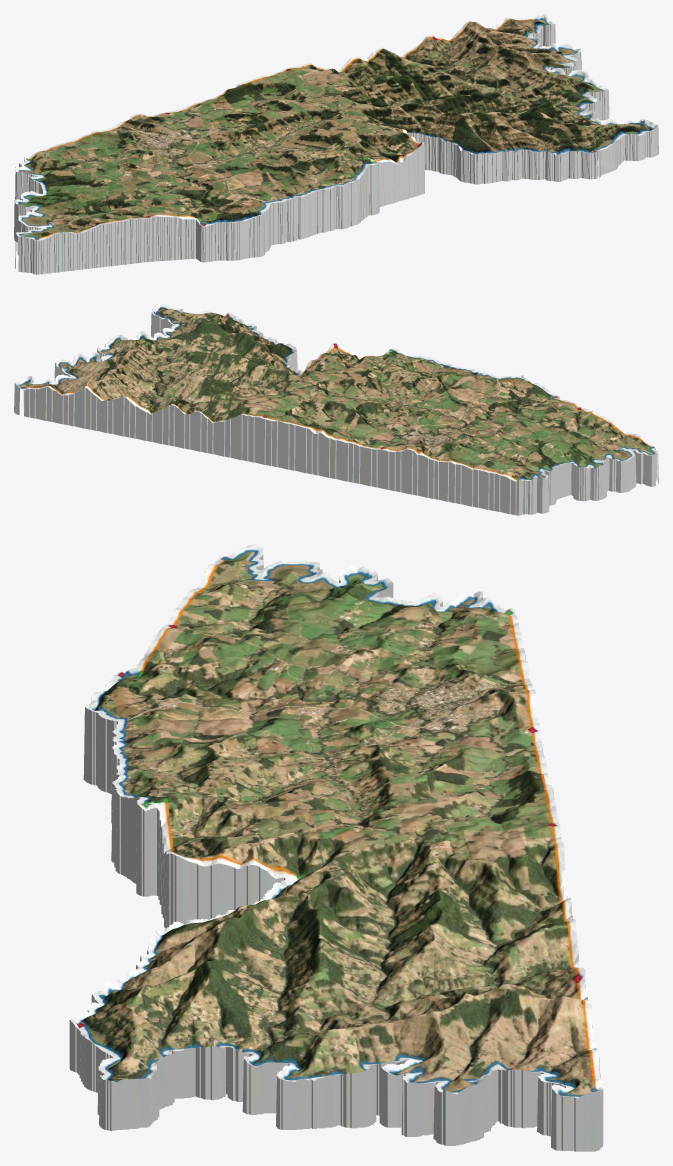
The picture shows the model from 3 angles, top to bottom: view 1: azimuth 30°, elevation 25°; view 2: azimuth 150°, elevation 25°; view 3: azimuth 270°, elevation 25°; orthographic projection. The views are drawn at different scales.
Size of the model in its own units: 1 by 0.0799 by 0.4146.
Materials: 1 (1 with a texture image).
